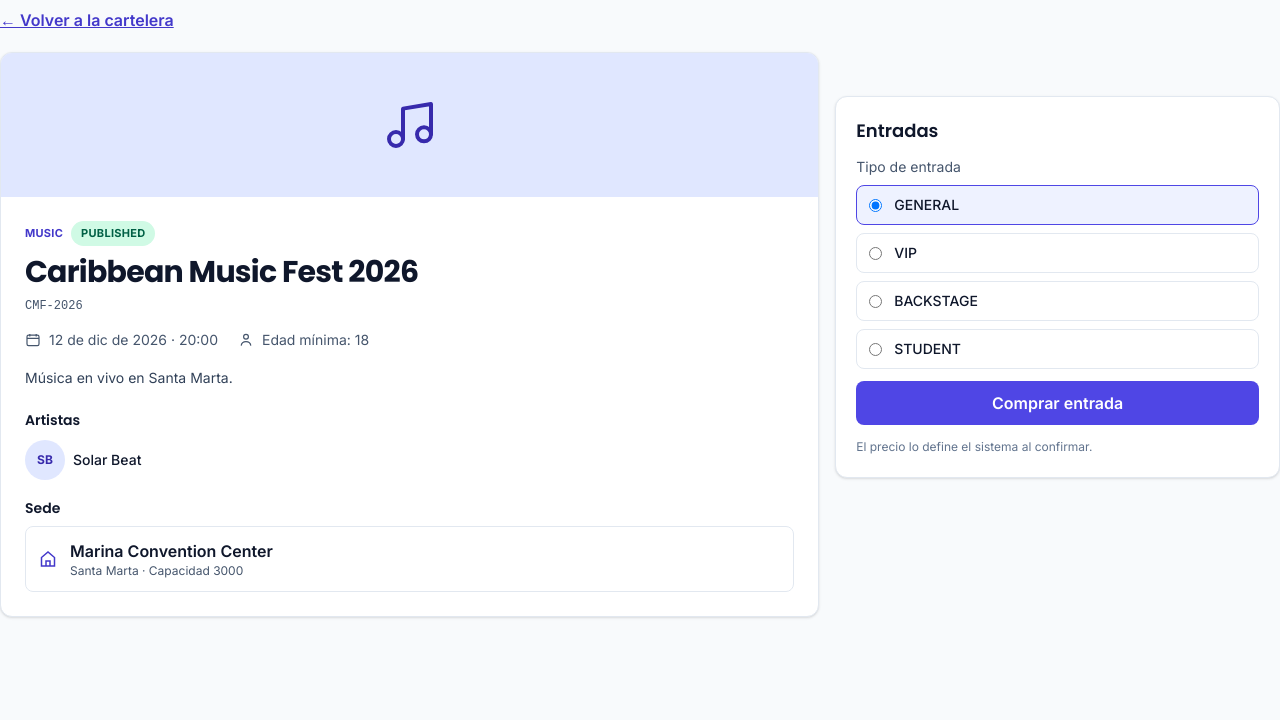
Test: TEST-FE-TKT: compra y tickets de usuario › TEST-FE-TKT-003 muestra error 409 de compra en el modal
This screenshot has width=1280, height=720.
Step 1. Click the button "Comprar entrada" → (1058, 403), box [856,381,1259,425]
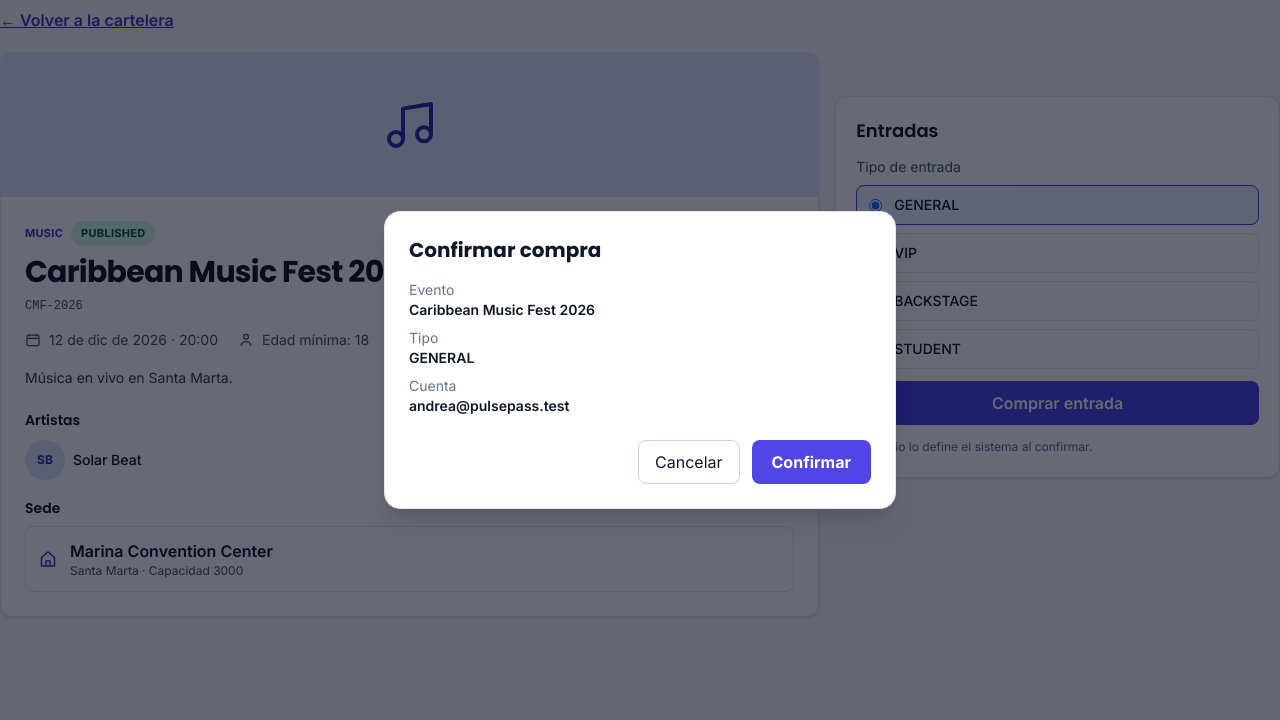
Step 2. Click the button "Confirmar" → (811, 462), box [752,440,871,484]
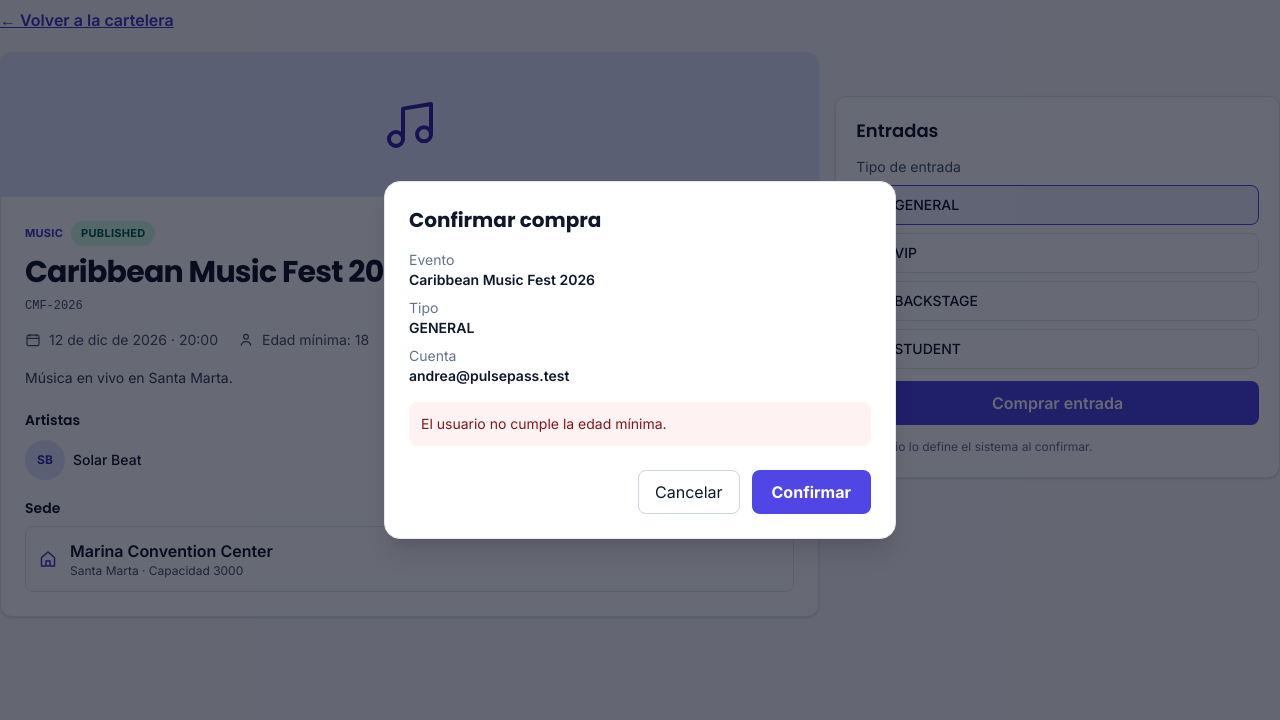
Expected: the message reads "El usuario no cumple la edad mínima.", [421,415,667,432]
